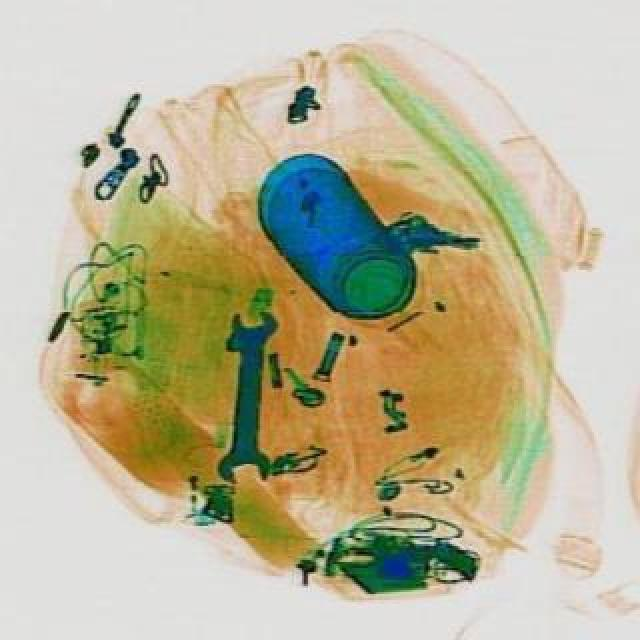scissors: (222, 310, 286, 482)
